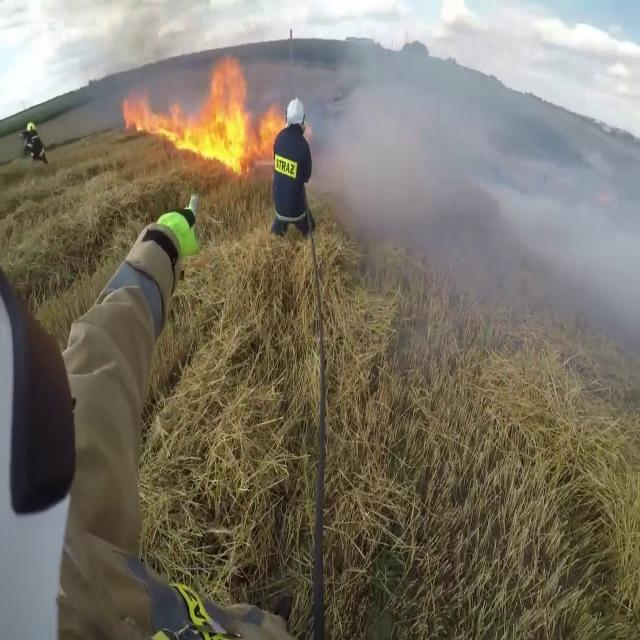Fire: (120, 52, 286, 173)
Smoke: (304, 2, 640, 386)
